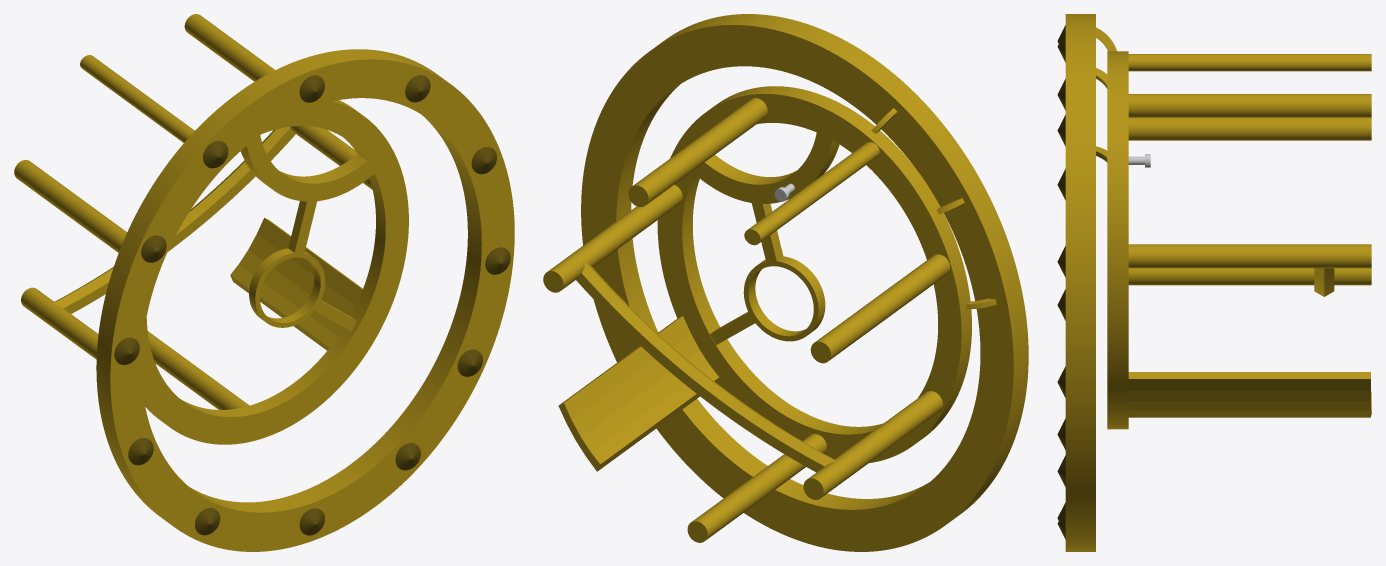
Rendered from clock_body_front.obj.
The picture shows the model from 3 angles, left to right: view 1: azimuth 30°, elevation 25°; view 2: azimuth 150°, elevation 25°; view 3: azimuth 270°, elevation 25°; orthographic projection. The views are drawn at different scales.
Visible parts, largest first — view 1: Cylinder.022_Cylinder, Cylinder.026_Cylinder.025, Cylinder.008_Cylinder.009, Cylinder.027_Cylinder.026, Cylinder_Cylinder.020, Torus.004, Cylinder.015_Cylinder.017, Cylinder.013_Cylinder.015, Cylinder.009_Cylinder.011, Cylinder.011_Cylinder.013, Cylinder.014_Cylinder.016, Cylinder.012_Cylinder.014; view 2: Cylinder.022_Cylinder, Cylinder.026_Cylinder.025, Cylinder.008_Cylinder.009, Torus.004, Cylinder_Cylinder.020, Cylinder.011_Cylinder.013, Cylinder.015_Cylinder.017, Cylinder.014_Cylinder.016, Cylinder.027_Cylinder.026, Cylinder.012_Cylinder.014, Cylinder.013_Cylinder.015, Cylinder.009_Cylinder.011; view 3: Cylinder.022_Cylinder, Cylinder.008_Cylinder.009, Cylinder.026_Cylinder.025, Cylinder.012_Cylinder.014, Cylinder.011_Cylinder.013, Cylinder.015_Cylinder.017, Cylinder.009_Cylinder.011, Cylinder.014_Cylinder.016, Torus.004.
Part boxes in pixels (left/top/right/bottom): Cylinder.022_Cylinder: left=96, top=49, right=514, bottom=551; Cylinder.026_Cylinder.025: left=141, top=100, right=408, bottom=444; Cylinder.008_Cylinder.009: left=230, top=217, right=362, bottom=350; Cylinder.027_Cylinder.026: left=240, top=135, right=383, bottom=201; Cylinder_Cylinder.020: left=249, top=201, right=356, bottom=330; Torus.004: left=52, top=126, right=295, bottom=313; Cylinder.015_Cylinder.017: left=14, top=160, right=126, bottom=252; Cylinder.013_Cylinder.015: left=147, top=331, right=249, bottom=409; Cylinder.009_Cylinder.011: left=80, top=55, right=194, bottom=142; Cylinder.011_Cylinder.013: left=184, top=14, right=275, bottom=81; Cylinder.014_Cylinder.016: left=21, top=287, right=98, bottom=359; Cylinder.012_Cylinder.014: left=290, top=126, right=372, bottom=189; Cylinder.022_Cylinder: left=581, top=14, right=1028, bottom=551; Cylinder.026_Cylinder.025: left=657, top=86, right=971, bottom=462; Cylinder.008_Cylinder.009: left=558, top=316, right=719, bottom=471; Torus.004: left=576, top=262, right=836, bottom=472; Cylinder_Cylinder.020: left=710, top=203, right=825, bottom=344; Cylinder.011_Cylinder.013: left=628, top=98, right=767, bottom=206; Cylinder.015_Cylinder.017: left=810, top=254, right=950, bottom=363; Cylinder.014_Cylinder.016: left=803, top=391, right=942, bottom=499; Cylinder.027_Cylinder.026: left=694, top=132, right=839, bottom=203; Cylinder.012_Cylinder.014: left=543, top=184, right=682, bottom=292; Cylinder.013_Cylinder.015: left=687, top=434, right=826, bottom=542; Cylinder.009_Cylinder.011: left=744, top=142, right=879, bottom=245; Cylinder.022_Cylinder: left=1065, top=14, right=1095, bottom=551; Cylinder.008_Cylinder.009: left=1128, top=372, right=1370, bottom=417; Cylinder.026_Cylinder.025: left=1107, top=51, right=1128, bottom=429; Cylinder.012_Cylinder.014: left=1128, top=244, right=1371, bottom=268; Cylinder.011_Cylinder.013: left=1128, top=94, right=1371, bottom=117; Cylinder.015_Cylinder.017: left=1128, top=117, right=1371, bottom=140; Cylinder.009_Cylinder.011: left=1128, top=54, right=1371, bottom=71; Cylinder.014_Cylinder.016: left=1128, top=268, right=1371, bottom=285; Torus.004: left=1314, top=268, right=1334, bottom=296.
Size of the model in its own units: 3.81 by 4.26 by 2.36.
